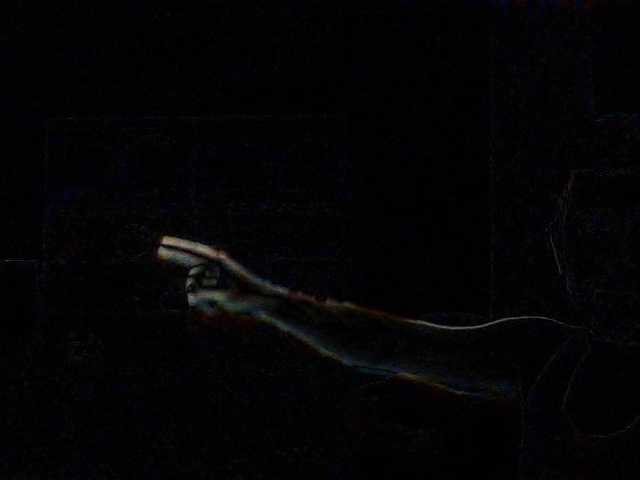hand_po: (150, 224, 256, 319)
